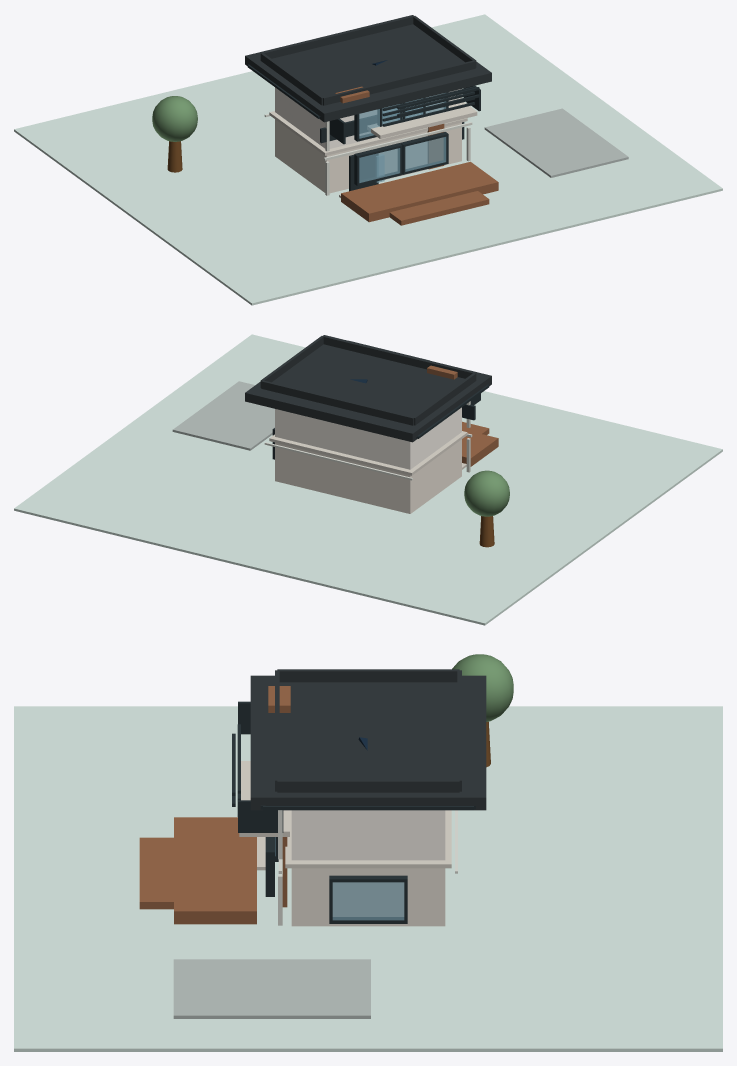
Rendered from generated-shell-pnu-41450-002-compact-flat-studio-warm-stone.glb.
3 renders of one model, top to bottom at view 1: azimuth 30°, elevation 25°; view 2: azimuth 150°, elevation 25°; view 3: azimuth 270°, elevation 25°, orthographic. The views are drawn at different scales.
Parts seen in each view (by area): view 1: IfcSite_ServicePreviewBase, IfcRoof_FlatRoof, IfcSpace_ParkingPad, IfcSlab_shell-c1-PNU-41450-002-slab-block-front-deck-1ccdaf6, IfcBuildingElementProxy_FloorMass_L1, IfcWindow_Glass (×3), IfcGeographicElement_GardenTree, IfcBuildingElementProxy_FloorMass_L2, IfcSlab_DeckModule, IfcCovering_RoofParapetBack, IfcSlab_SecondFloorBalcony, IfcCovering_RoofParapetFront (+7 smaller); view 2: IfcSite_ServicePreviewBase, IfcRoof_FlatRoof, IfcBuildingElementProxy_FloorMass_L1, IfcBuildingElementProxy_FloorMass_L2, IfcSpace_ParkingPad, IfcGeographicElement_GardenTree, IfcCovering_RoofParapetBack, IfcSlab_LevelCap_L1, IfcCovering_RoofParapetFront, IfcSlab_shell-c1-PNU-41450-002-slab-block-front-deck-1ccdaf6, IfcCovering_RoofParapetLeft, IfcCovering_RoofParapetRight (+1 smaller); view 3: IfcSite_ServicePreviewBase, IfcRoof_FlatRoof, IfcSpace_ParkingPad, IfcSlab_shell-c1-PNU-41450-002-slab-block-front-deck-1ccdaf6, IfcBuildingElementProxy_FloorMass_L1, IfcBuildingElementProxy_FloorMass_L2, IfcWindow_Glass, IfcCovering_RoofParapetRight, IfcSlab_DeckModule, IfcCovering_RoofParapetLeft, IfcGeographicElement_GardenTree, IfcSlab_LevelCap_L1 (+3 smaller).
Boxes of the visible parts, box(x1,y1,x2,y2) form: IfcSite_ServicePreviewBase: box(14, 14, 722, 305); IfcRoof_FlatRoof: box(245, 15, 491, 122); IfcSpace_ParkingPad: box(484, 108, 628, 177); IfcSlab_shell-c1-PNU-41450-002-slab-block-front-deck-1ccdaf6: box(341, 161, 498, 222); IfcBuildingElementProxy_FloorMass_L1: box(275, 119, 461, 193); IfcWindow_Glass (×3): box(359, 104, 446, 182); IfcGeographicElement_GardenTree: box(152, 96, 197, 172); IfcBuildingElementProxy_FloorMass_L2: box(275, 87, 461, 148); IfcSlab_DeckModule: box(389, 191, 489, 225); IfcCovering_RoofParapetBack: box(261, 15, 414, 58); IfcSlab_SecondFloorBalcony: box(367, 102, 477, 138); IfcCovering_RoofParapetFront: box(323, 60, 475, 105); IfcSite_ServicePreviewBase: box(14, 334, 722, 625); IfcRoof_FlatRoof: box(245, 335, 491, 442); IfcBuildingElementProxy_FloorMass_L1: box(275, 439, 461, 513); IfcBuildingElementProxy_FloorMass_L2: box(275, 407, 461, 469); IfcSpace_ParkingPad: box(172, 381, 274, 450); IfcGeographicElement_GardenTree: box(464, 470, 509, 547); IfcCovering_RoofParapetBack: box(261, 380, 413, 425); IfcSlab_LevelCap_L1: box(269, 431, 467, 475); IfcCovering_RoofParapetFront: box(323, 335, 475, 378); IfcSlab_shell-c1-PNU-41450-002-slab-block-front-deck-1ccdaf6: box(462, 429, 498, 466); IfcCovering_RoofParapetLeft: box(414, 373, 476, 425); IfcCovering_RoofParapetRight: box(260, 336, 323, 387); IfcSite_ServicePreviewBase: box(14, 706, 722, 1051); IfcRoof_FlatRoof: box(250, 675, 486, 810); IfcSpace_ParkingPad: box(173, 959, 370, 1018); IfcSlab_shell-c1-PNU-41450-002-slab-block-front-deck-1ccdaf6: box(174, 817, 256, 924); IfcBuildingElementProxy_FloorMass_L1: box(291, 868, 445, 926); IfcBuildingElementProxy_FloorMass_L2: box(291, 810, 445, 860); IfcWindow_Glass: box(332, 882, 404, 920); IfcCovering_RoofParapetRight: box(277, 779, 459, 792); IfcSlab_DeckModule: box(139, 837, 173, 909); IfcCovering_RoofParapetLeft: box(277, 669, 459, 682); IfcGeographicElement_GardenTree: box(452, 654, 513, 767); IfcSlab_LevelCap_L1: box(285, 810, 451, 868).
Bounding box in the file's own units: 32 × 6.93 × 28.
